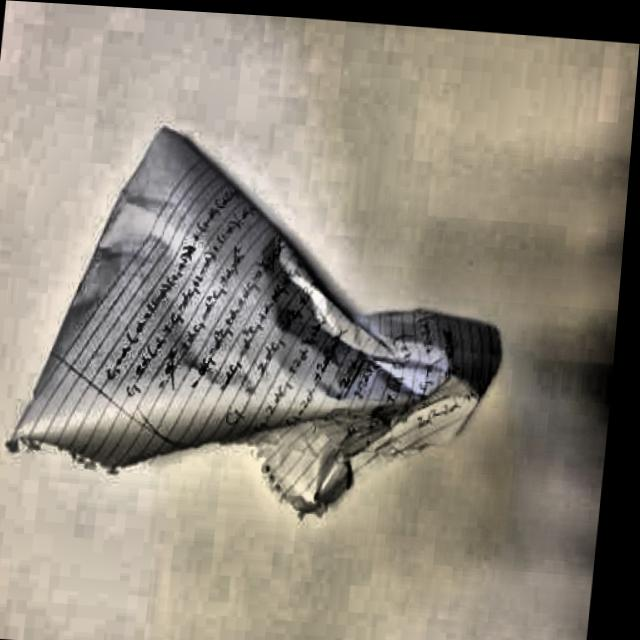Paper: (0, 117, 539, 535)
